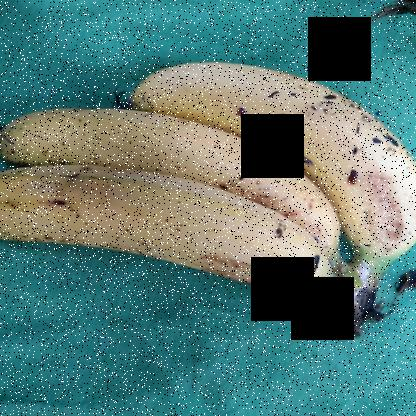ripe: (112, 54, 415, 275), (1, 98, 353, 264), (1, 161, 334, 312)
